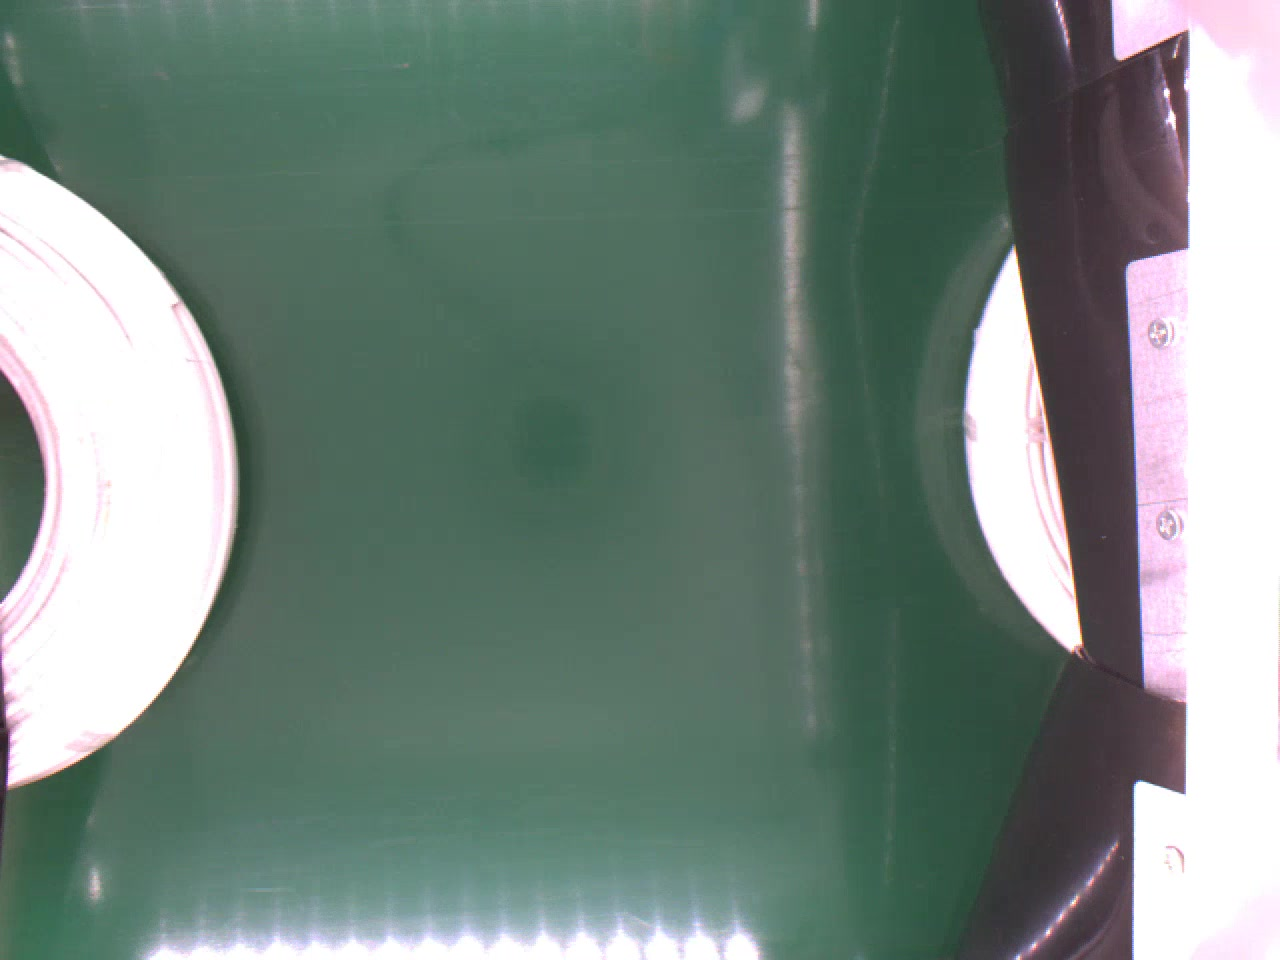white: (0, 150, 243, 794)
